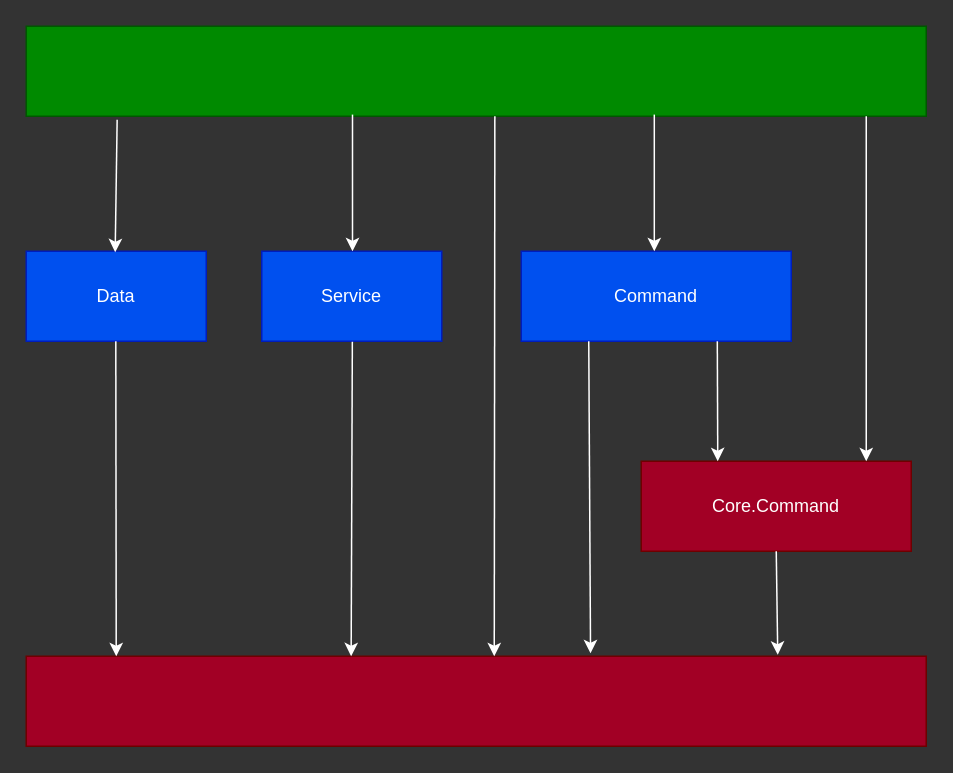
The diagram is 953 pixels wide and 773 high, and some of its shapes have lost their labels. The shapes that lost their labels are listed below. From the top down, each one's centre as x and y in pixels, then its label:
At pixel 475 70: "API".
At pixel 475 700: "Core".
